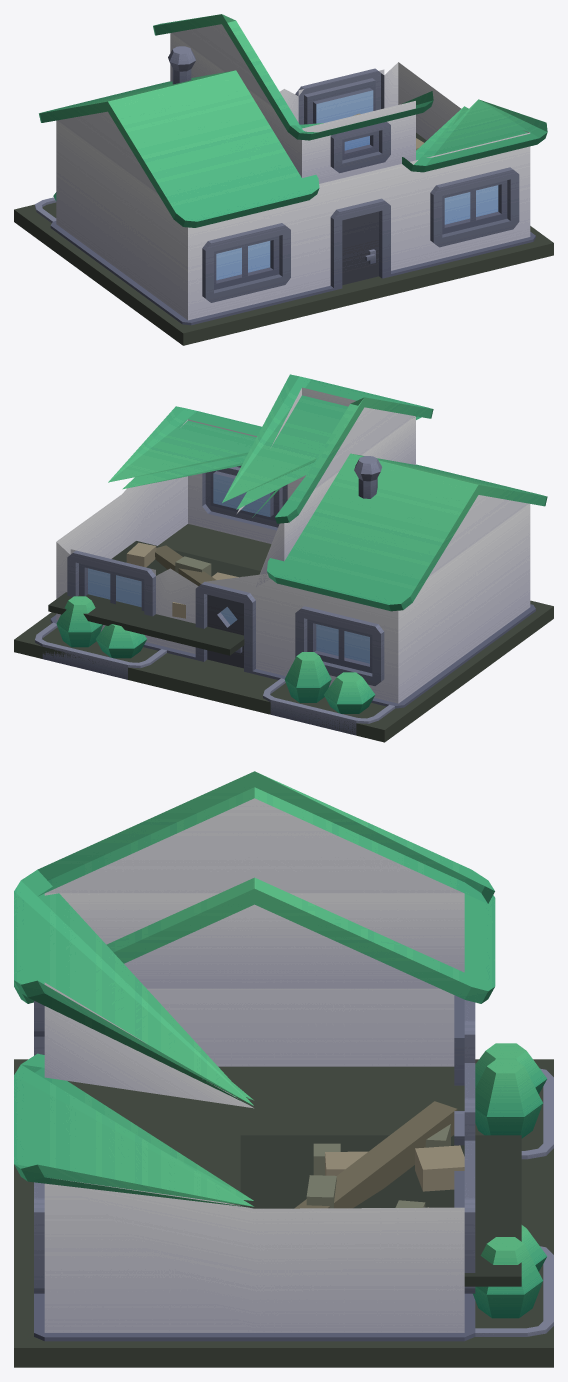
File: building-type-a-ruined.glb
3 views of the same model, one above another, from view 1: azimuth 30°, elevation 25°; view 2: azimuth 150°, elevation 25°; view 3: azimuth 270°, elevation 25° (orthographic). The views are drawn at different scales.
Parts seen in each view (by area): view 1: building-type-a-ruined; view 2: building-type-a-ruined; view 3: building-type-a-ruined.
Part boxes in pixels (bbox=[...]): building-type-a-ruined: bbox=[14, 14, 553, 345]; building-type-a-ruined: bbox=[14, 374, 553, 742]; building-type-a-ruined: bbox=[14, 771, 553, 1367].
Size of the model in its own units: 1.3 by 0.8335 by 1.03.
Materials: 6 (1 with a texture image).
